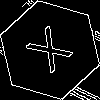X: (25, 25, 81, 81)
